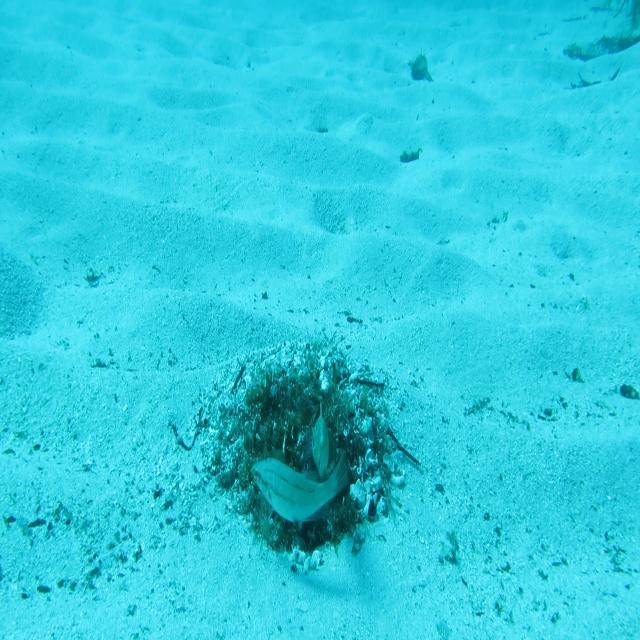MAN: (309, 397, 331, 485)
core_nest: (273, 390, 328, 437)
female: (250, 446, 352, 529)
nest: (194, 332, 414, 594)
vegetation: (557, 0, 640, 97), (406, 53, 437, 85), (398, 148, 423, 166)
